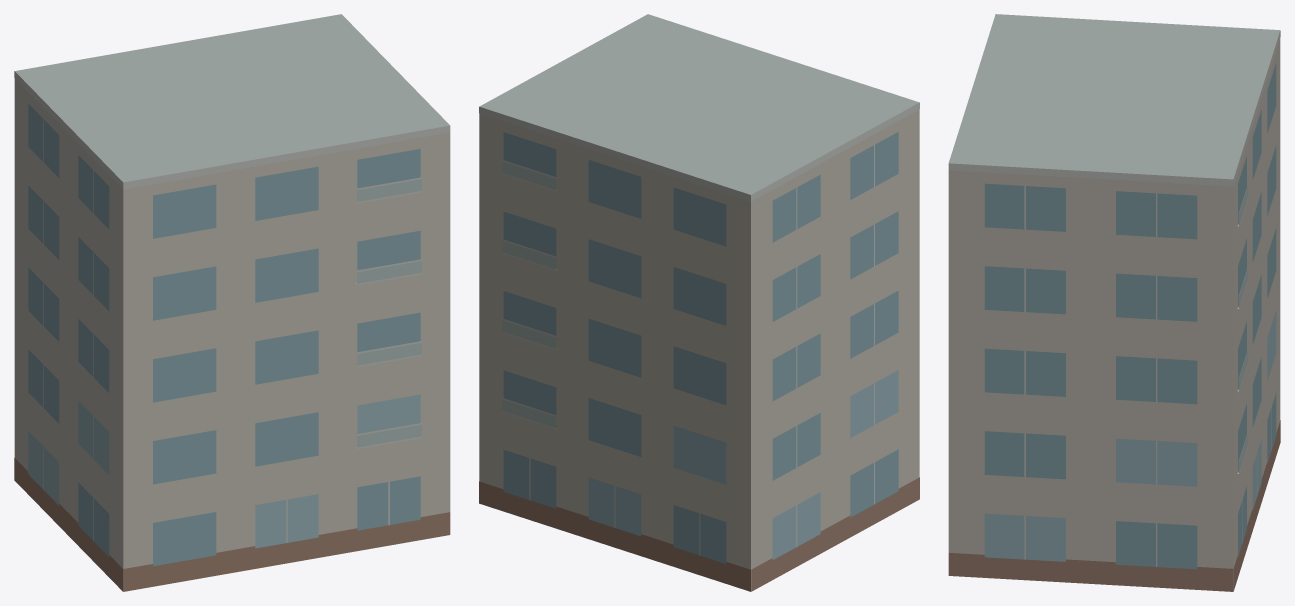
Rendered from survey-upis-32926467.glb.
3 renders of one model, left to right at view 1: azimuth 30°, elevation 25°; view 2: azimuth 150°, elevation 25°; view 3: azimuth 270°, elevation 25°, orthographic. The views are drawn at different scales.
Visible parts, largest first — view 1: survey-upis-32926467.tmp; view 2: survey-upis-32926467.tmp; view 3: survey-upis-32926467.tmp.
Part boxes in pixels (<box>): survey-upis-32926467.tmp: <box>14,14,450,591</box>; survey-upis-32926467.tmp: <box>479,14,919,591</box>; survey-upis-32926467.tmp: <box>948,14,1280,591</box>.
Bounding box in the file's own units: 12.31 × 14.3 × 10.44.
